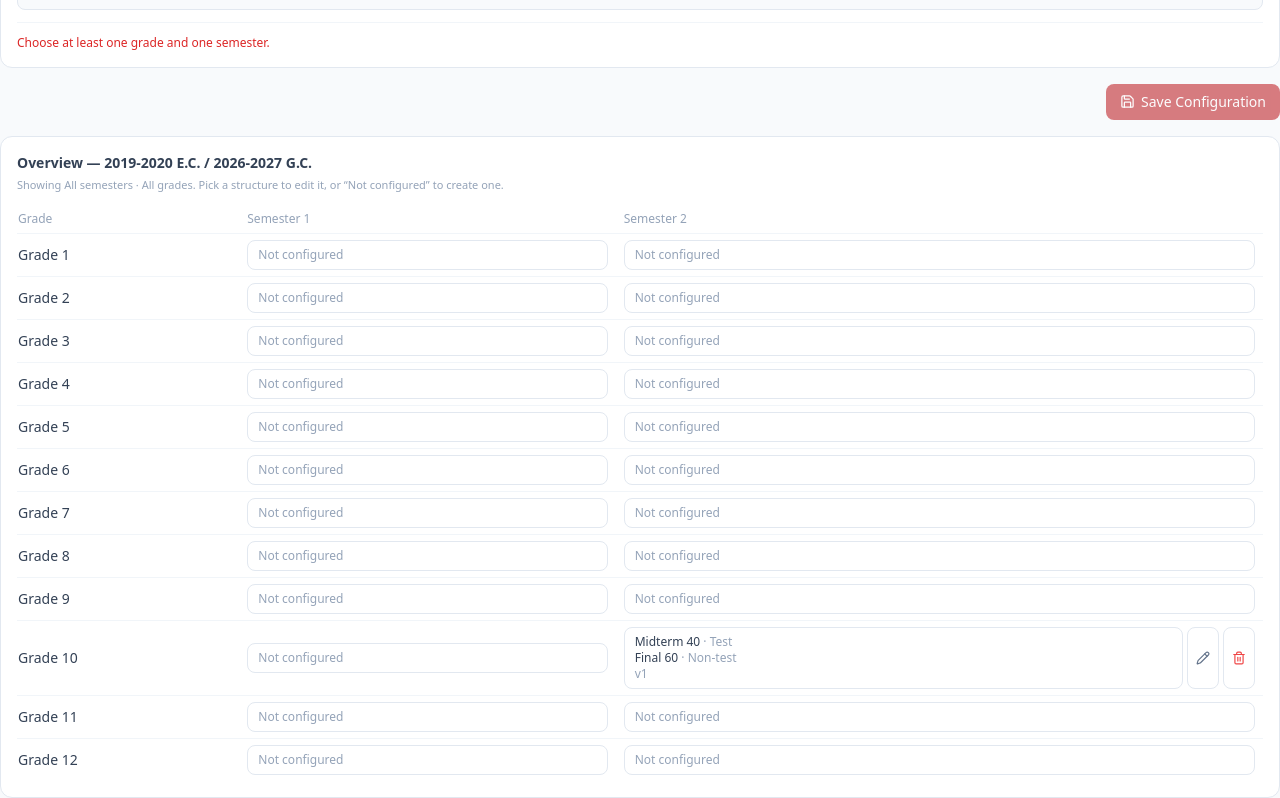
Test: Test 6 (UI) — a structure with saved results cannot be deleted › says how many students when there are many
The image size is (1280, 798).
(page scrolled)
Click the button named "Delete structure for Grade 10 Semester 2": (1239, 658) [1223,627,1255,689]
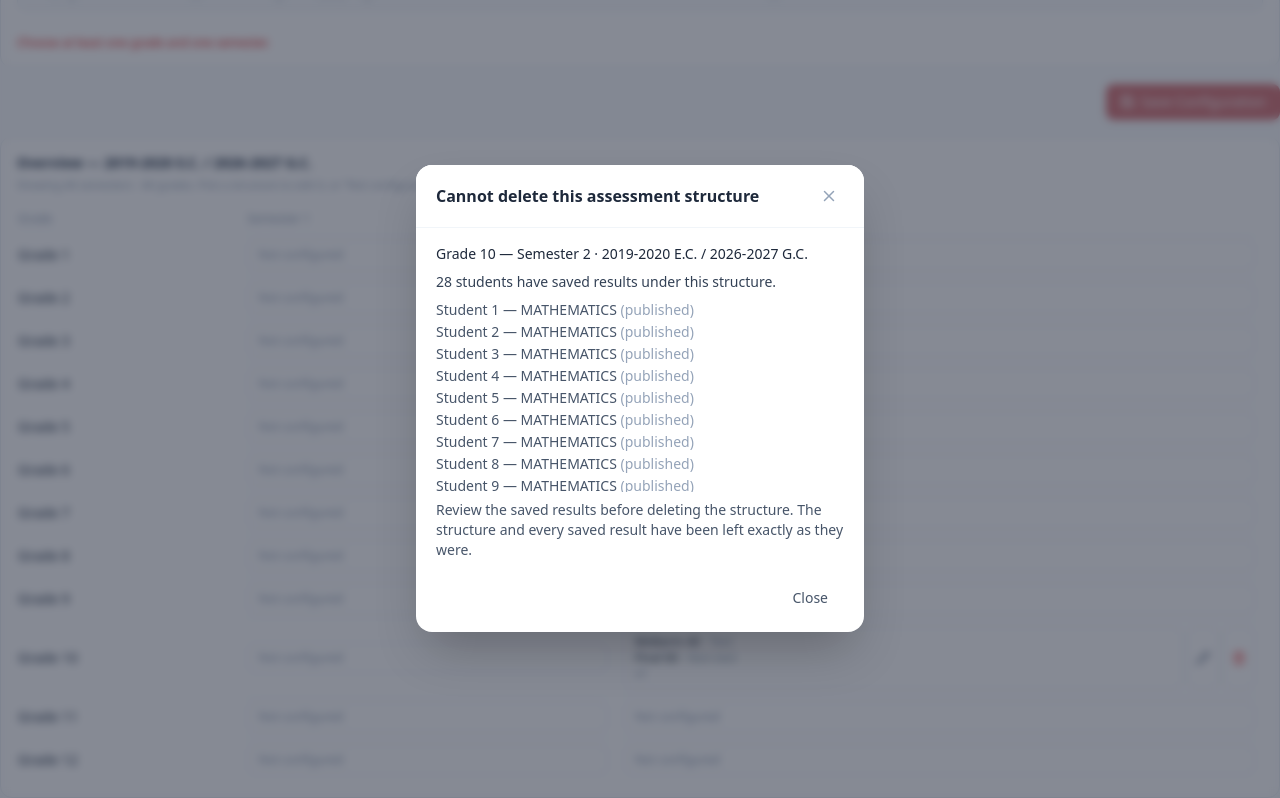
Check: the text "28 students have saved results under this structure." is shown, box [436,272,776,290]
Check: the text "Review the saved results before deleting the structure." is shown, box [436,500,794,518]
